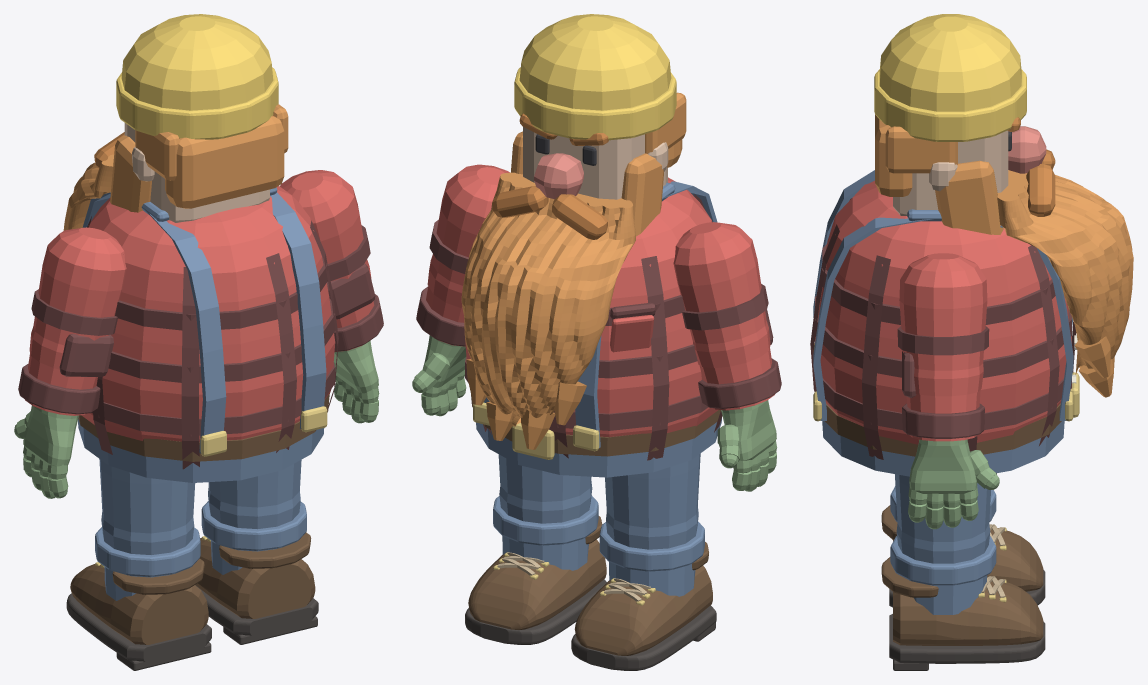
The model's file is player.glb.
3 views of the same model, side by side, from view 1: azimuth 30°, elevation 25°; view 2: azimuth 150°, elevation 25°; view 3: azimuth 270°, elevation 25° (orthographic).
Parts seen in each view (by area): view 1: Belly, Beanie, HairBack, UpperArm_L, Boot_L, Suspender_B-1, Boot_R, Thigh_L, BeanieCuff, Suspender_B1, Waist, UpperArm_R (+35 smaller); view 2: Beard, Beanie, Belly, UpperArm_L, Boot_L, Boot_R, BeanieCuff, Thigh_L, Waist, UpperArm_R, Face, PlaidStripe6 (+35 smaller); view 3: Belly, Beard, Beanie, UpperArm_R, Boot_R, BeanieCuff, Sideburn_1, Waist, Glove_R, Sole_R, PlaidStripe14, Face (+27 smaller).
Part boxes in pixels (bbox=[...]): Belly: bbox=[82, 186, 335, 441]; Beanie: bbox=[121, 14, 273, 110]; HairBack: bbox=[165, 116, 284, 208]; UpperArm_L: bbox=[33, 227, 126, 345]; Boot_L: bbox=[70, 564, 208, 644]; Suspender_B-1: bbox=[144, 209, 226, 453]; Boot_R: bbox=[195, 537, 315, 618]; Thigh_L: bbox=[99, 459, 195, 533]; BeanieCuff: bbox=[116, 67, 278, 139]; Suspender_B1: bbox=[270, 192, 326, 429]; Waist: bbox=[78, 419, 324, 482]; UpperArm_R: bbox=[280, 170, 368, 281]; Beard: bbox=[461, 172, 635, 426]; Beanie: bbox=[519, 14, 671, 110]; Belly: bbox=[465, 177, 718, 437]; UpperArm_L: bbox=[673, 222, 766, 344]; Boot_L: bbox=[574, 565, 712, 655]; Boot_R: bbox=[468, 539, 606, 629]; BeanieCuff: bbox=[514, 67, 676, 140]; Thigh_L: bbox=[605, 453, 700, 527]; Waist: bbox=[476, 418, 721, 477]; UpperArm_R: bbox=[431, 164, 509, 285]; Face: bbox=[523, 127, 667, 199]; PlaidStripe6: bbox=[641, 256, 669, 460]; Belly: bbox=[815, 180, 1071, 444]; Beard: bbox=[997, 170, 1133, 374]; Beanie: bbox=[879, 14, 1021, 111]; UpperArm_R: bbox=[899, 253, 987, 370]; Boot_R: bbox=[893, 579, 1043, 645]; BeanieCuff: bbox=[874, 69, 1026, 141]; Sideburn_1: bbox=[935, 160, 1003, 234]; Waist: bbox=[822, 421, 1064, 476]; Glove_R: bbox=[909, 439, 977, 493]; Sole_R: bbox=[889, 614, 1045, 663]; PlaidStripe14: bbox=[862, 255, 890, 459]; Face: bbox=[893, 130, 1008, 215].
Bounding box in the file's own units: 1.13 × 1.84 × 0.8968.
